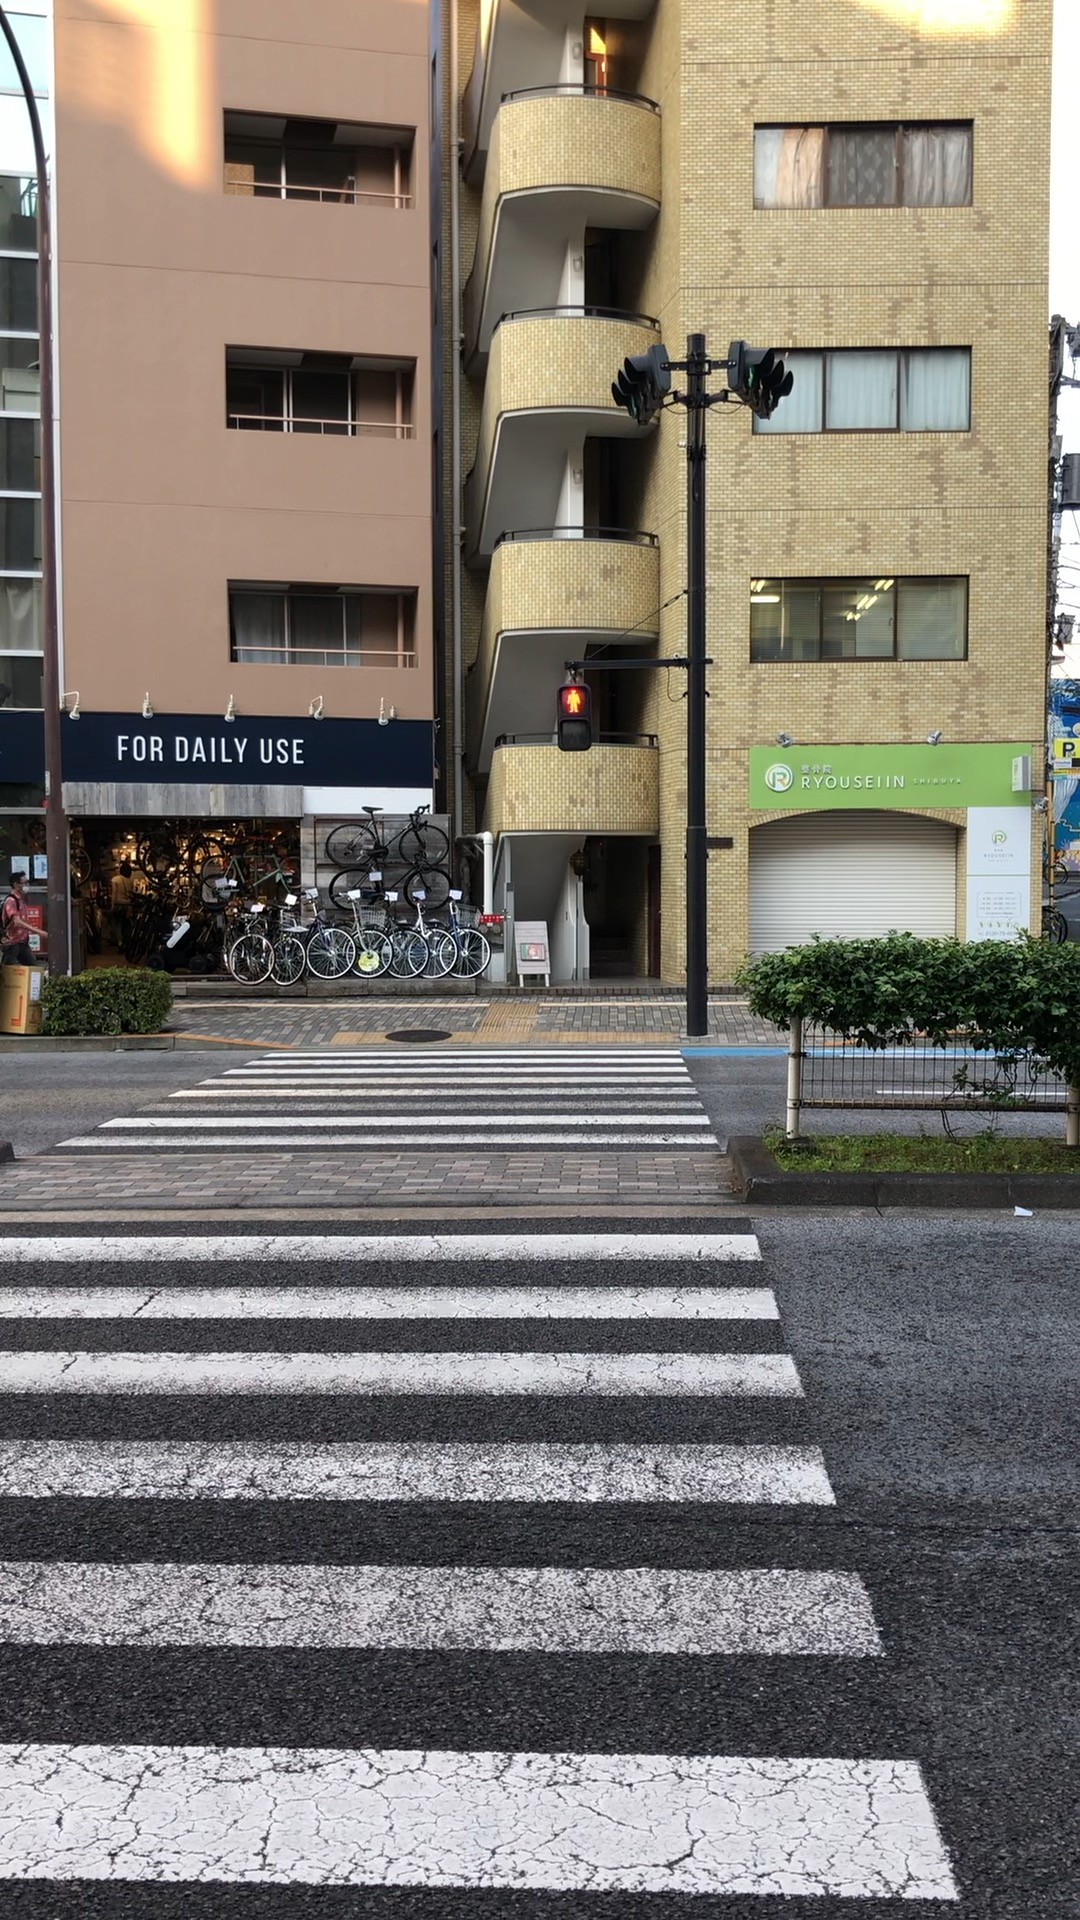red: (555, 683, 592, 752)
